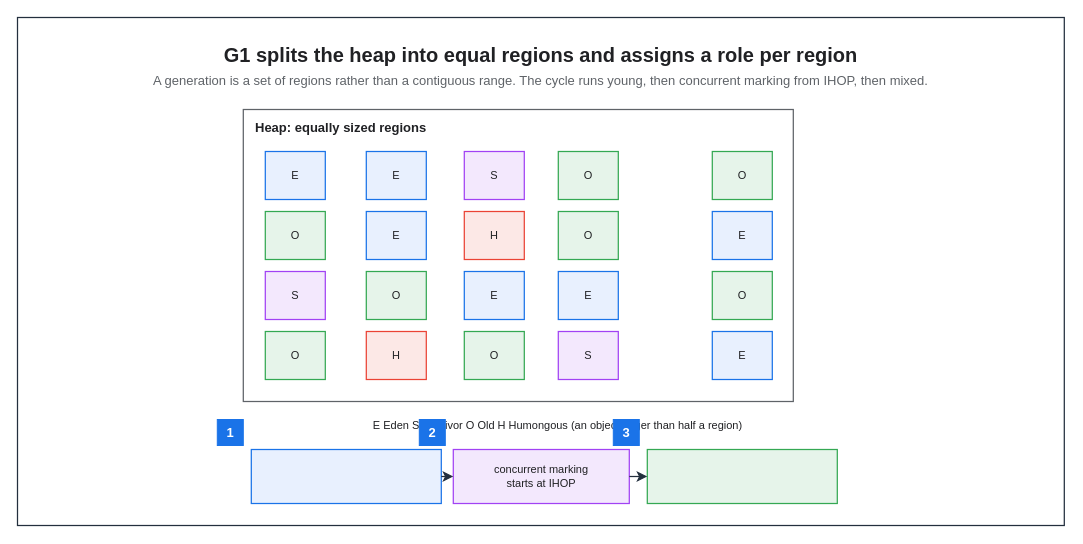
Some shapes in this 1083 by 544 pixel diagram are drawn without their labels. Here are the shapes that lost their labels. From the top down, the centre of each, then its label:
At (346,476): "young collection evacuate Eden and Survivor".
At (742,476): "mixed collection reclaims Old incrementally".
